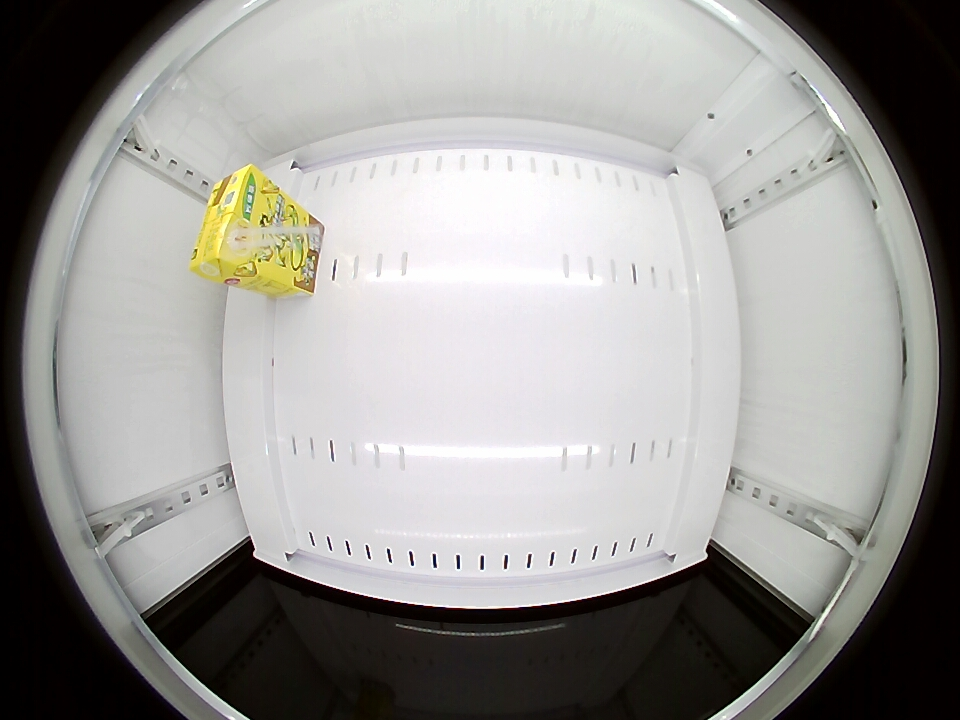weitaningmeng: (192, 164, 281, 283)
